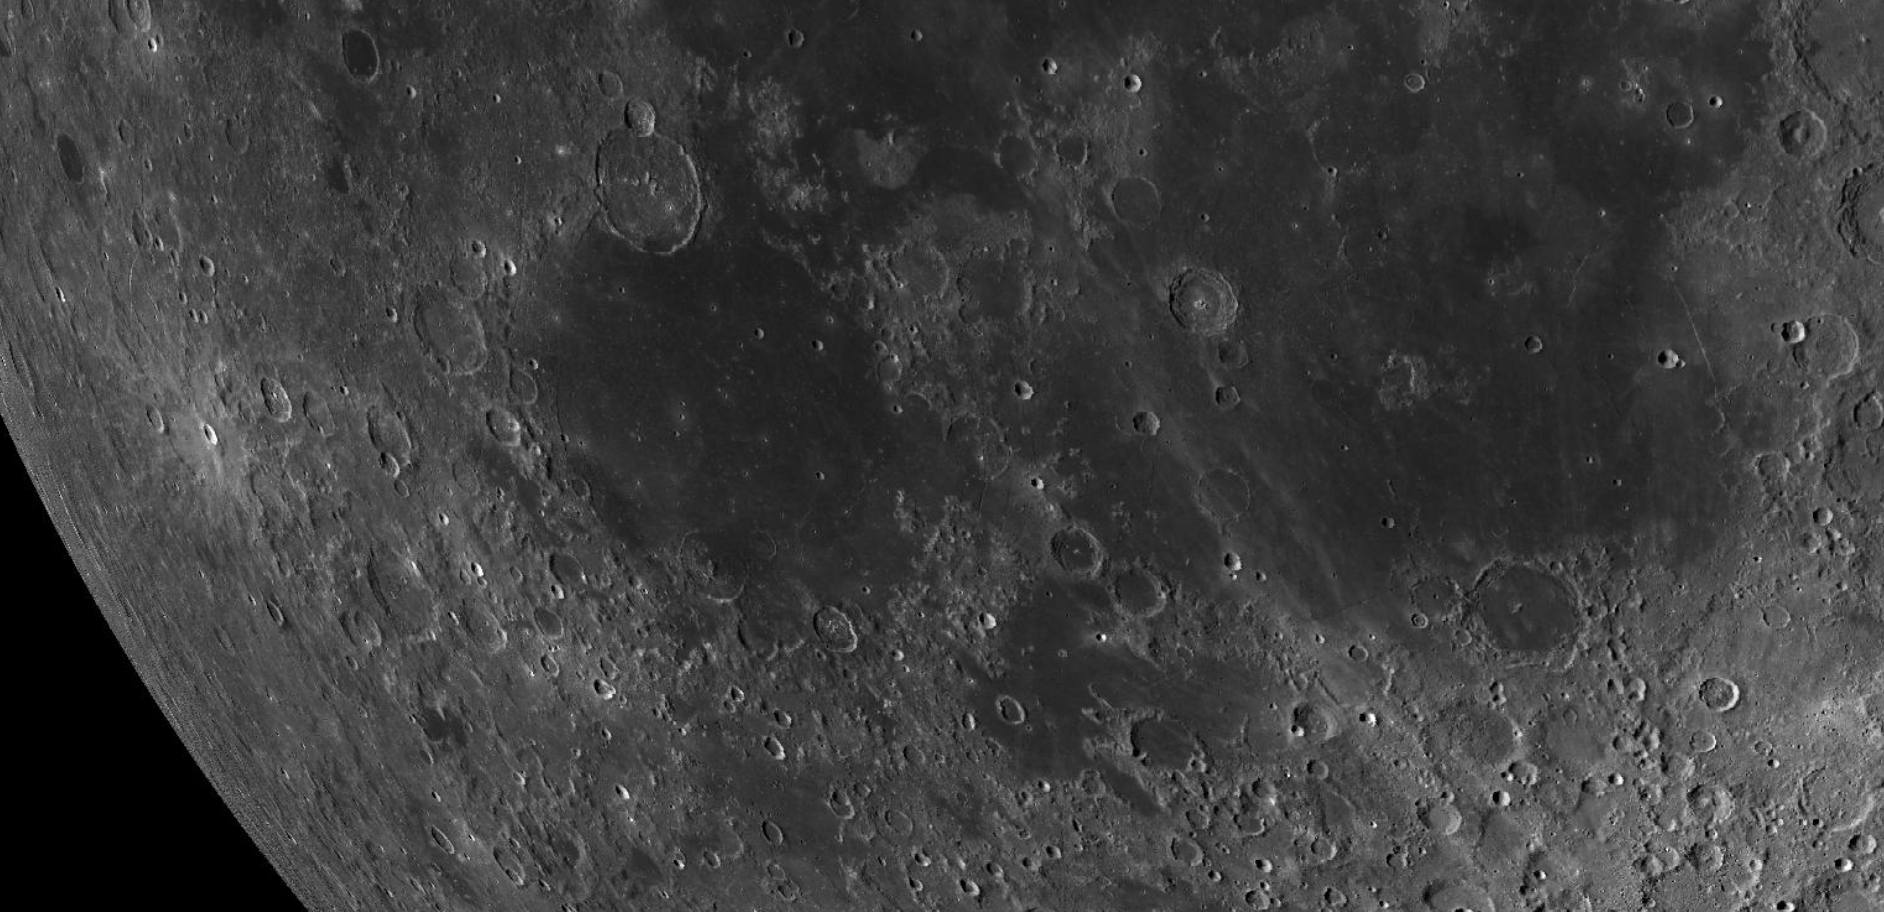crater: (547, 111, 719, 266), (1451, 532, 1612, 691), (1471, 298, 1603, 404), (394, 269, 503, 397), (779, 421, 875, 543), (1361, 47, 1469, 154), (1128, 244, 1250, 336), (1627, 309, 1717, 425), (31, 113, 108, 230), (861, 8, 976, 78), (434, 592, 520, 682), (225, 346, 298, 451), (1032, 514, 1111, 598), (318, 18, 390, 99), (755, 14, 842, 78), (318, 591, 390, 667), (729, 296, 795, 372), (180, 230, 246, 296), (412, 800, 466, 874), (1683, 663, 1751, 722), (983, 678, 1045, 735), (1651, 81, 1698, 147), (1353, 496, 1402, 550), (257, 583, 297, 639)
